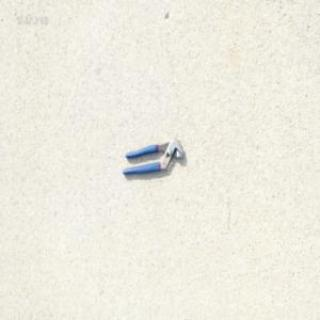Pliertrack_idkeyframe: (122, 136, 185, 176)
